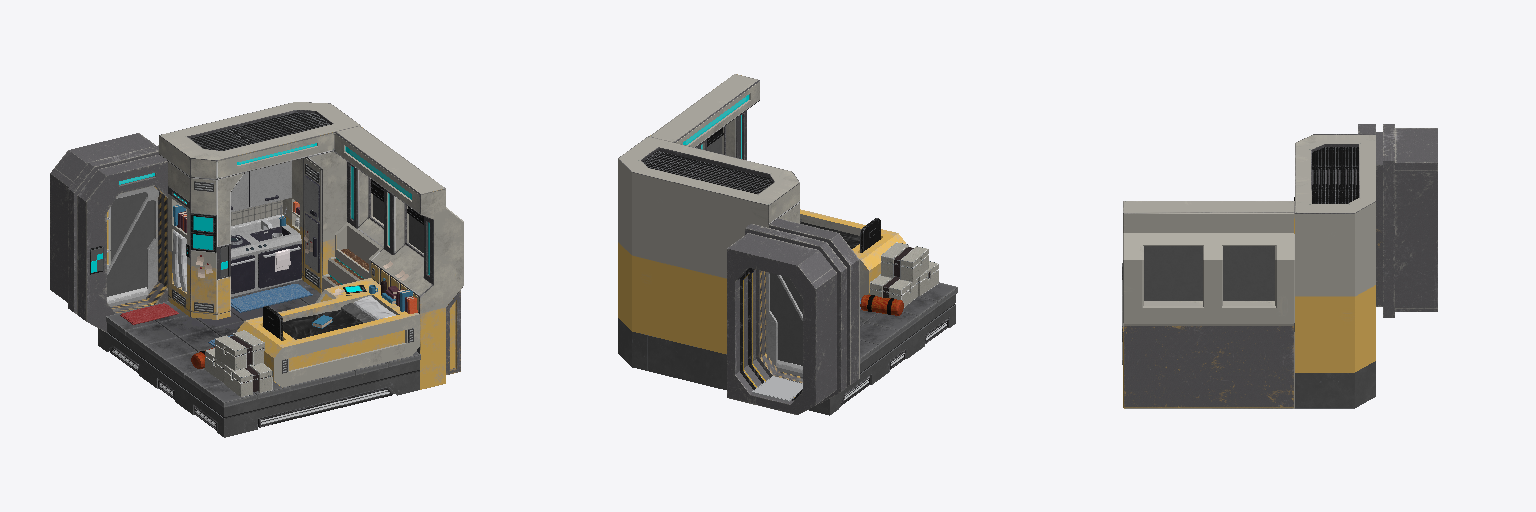
The picture shows the model from 3 angles: view 1: azimuth 30°, elevation 25°; view 2: azimuth 150°, elevation 25°; view 3: azimuth 270°, elevation 25°; orthographic projection.
Visible parts, largest first — view 1: EverythingElse1; view 2: EverythingElse1; view 3: EverythingElse1.
Part boxes in pixels (x1,y1,x2,y2): EverythingElse1: (50, 102, 463, 437); EverythingElse1: (618, 74, 957, 415); EverythingElse1: (1122, 124, 1437, 408).
Size of the model in its own units: 5.5 by 3.94 by 5.78.
Materials: 2 (2 with a texture image).